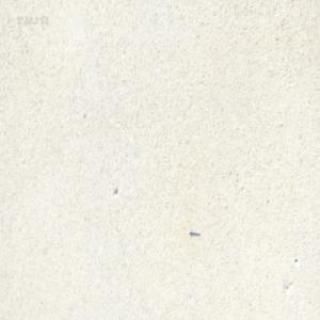Nailtrack_idkeyframe: (188, 228, 199, 236)
